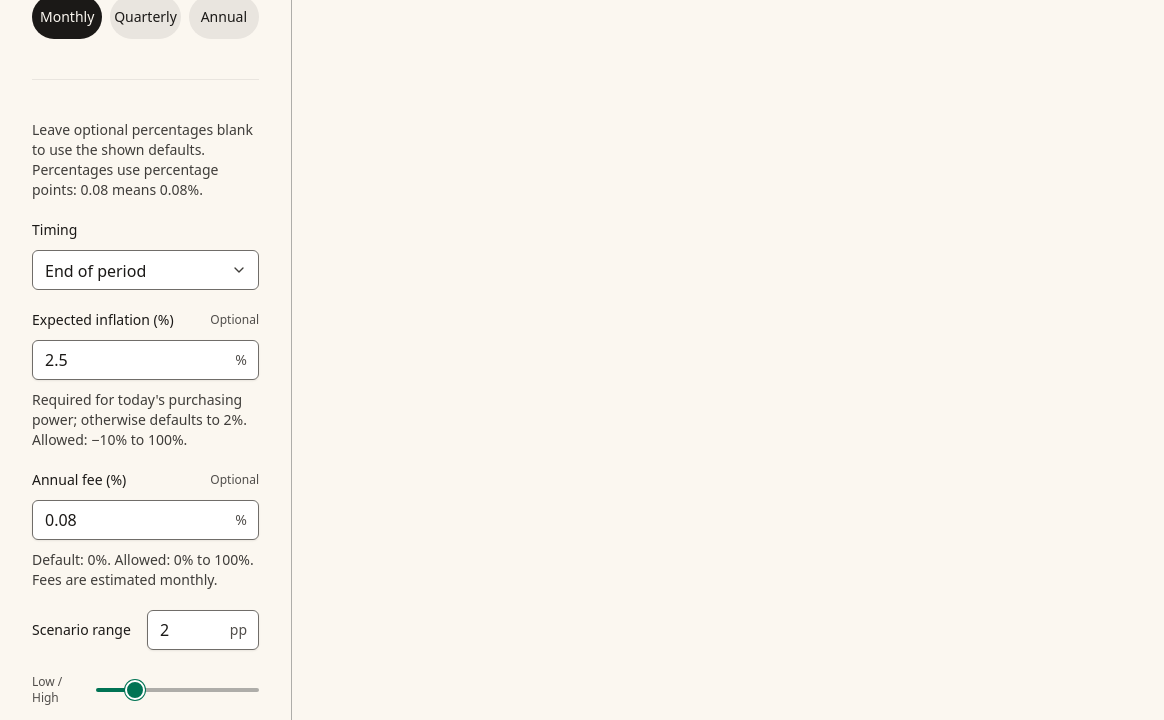
target planner › requires inflation for real targets and displays the backend nominal target
(page scrolled)
Select "Today's purchasing power" in the field named "Target basis" at (146, 360), box [32,340,259,380]
(page scrolled)
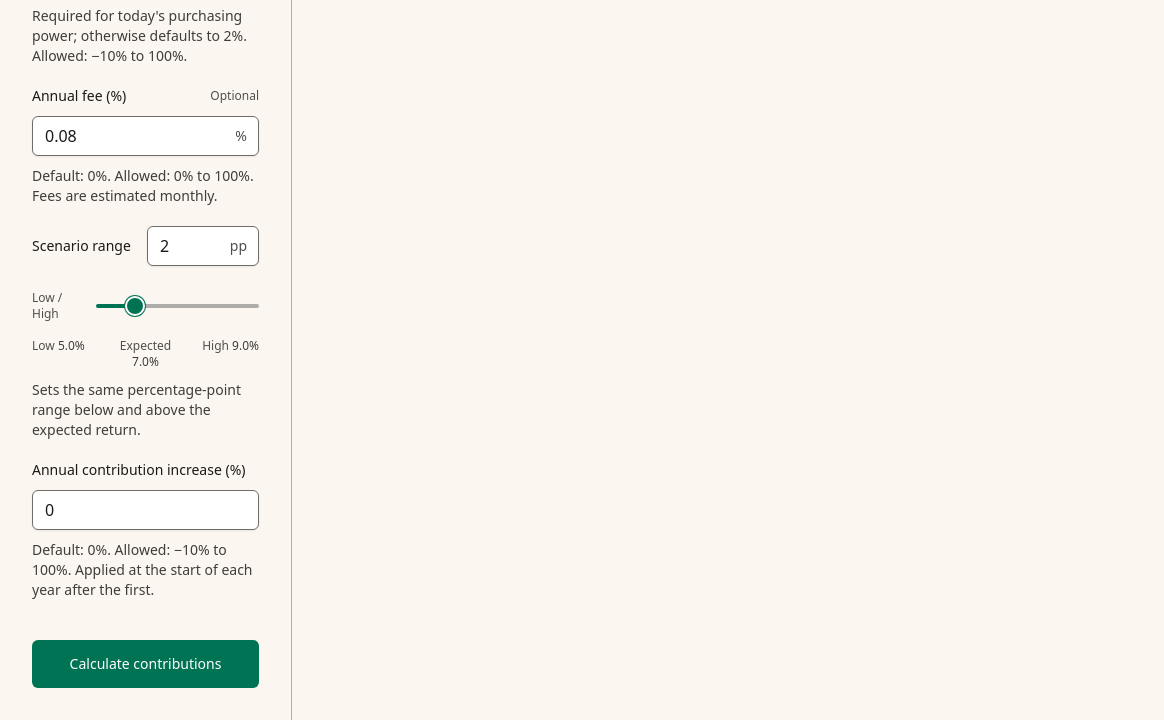
Click the button "Calculate contributions" at (146, 664), box [32,640,259,688]
(page scrolled)
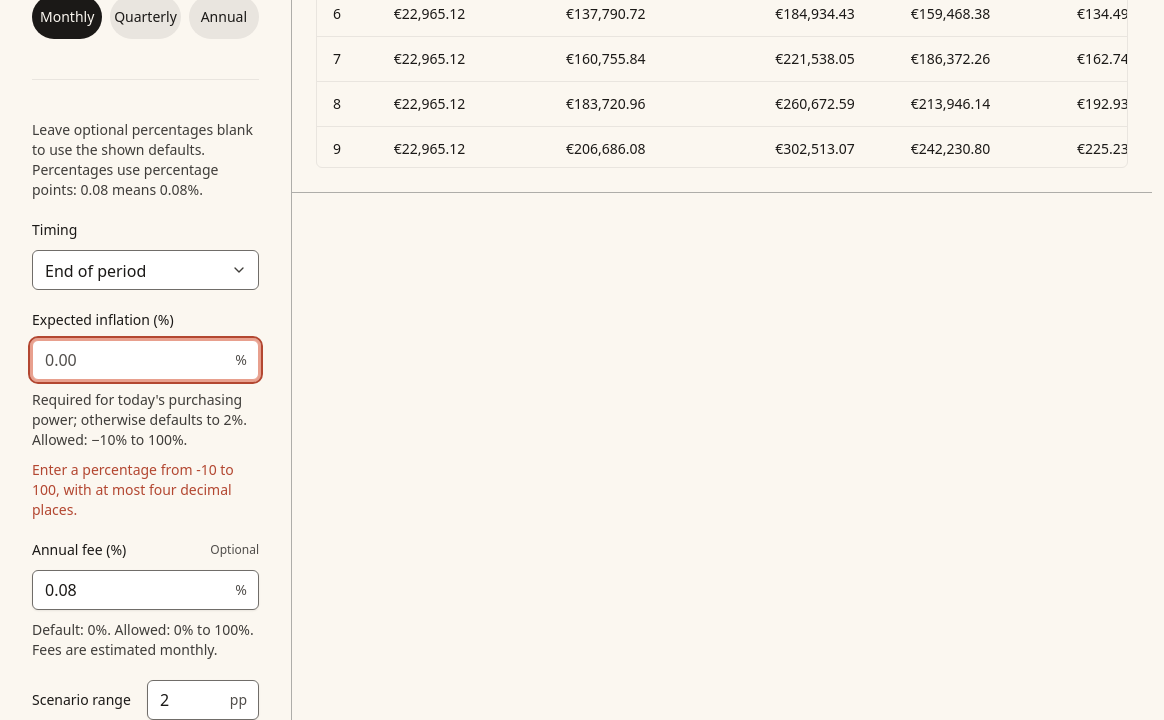
Check: the field labelled "Expected inflation (%)" has attribute required
Check: the field labelled "Expected inflation (%)" has attribute aria-required="true"
Check: the field labelled "Expected inflation (%)" is marked as invalid
Type "2.5000" into the field labelled "Expected inflation (%)" at (146, 360), box [32,340,259,380]
(page scrolled)
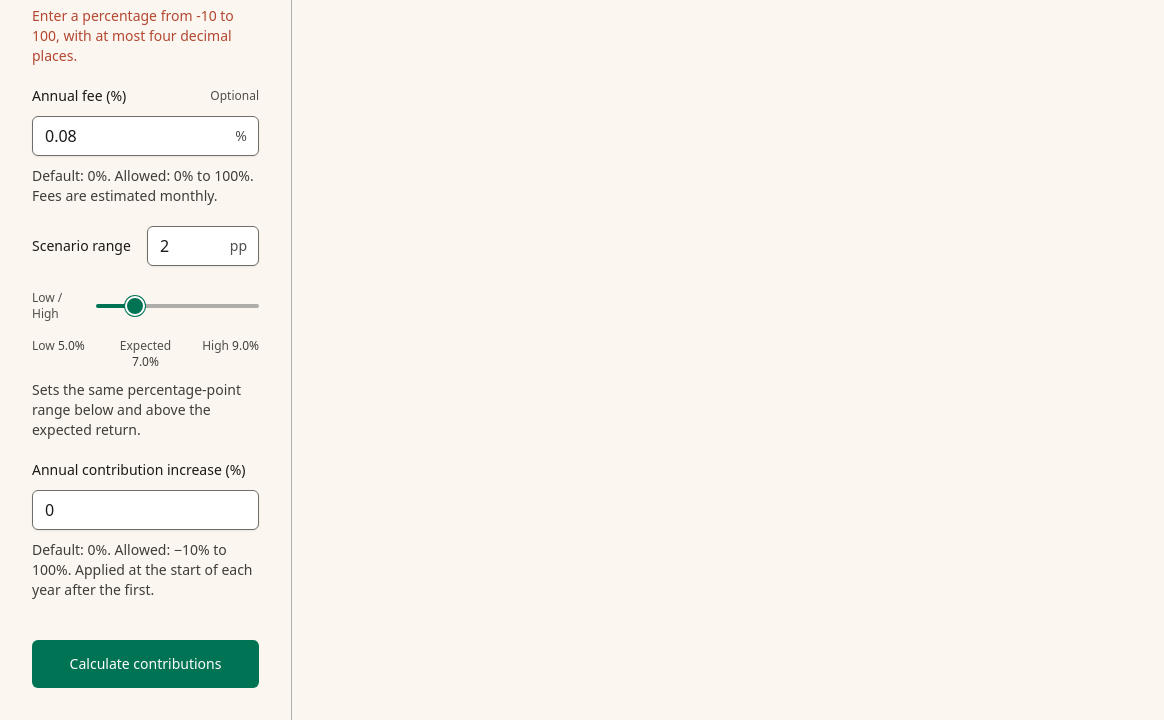
Click the button "Calculate contributions" at (146, 664), box [32,640,259,688]
(page scrolled)
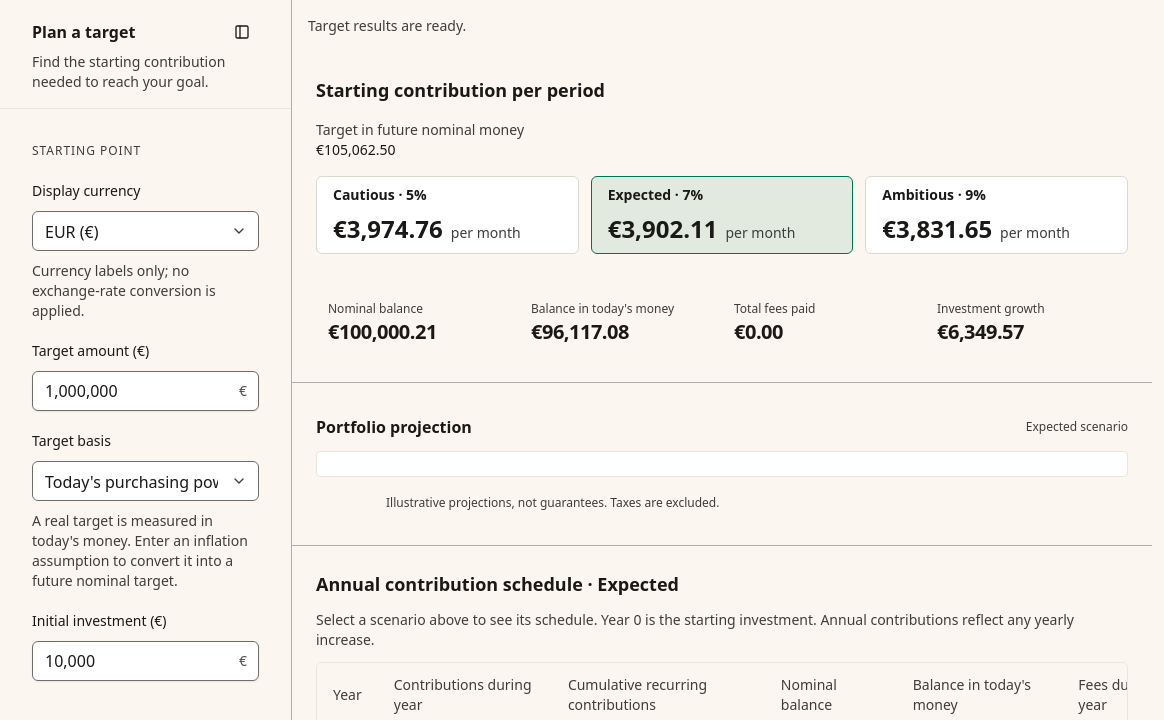
Check: the text "Target in future nominal money" is shown, box [316,120,524,139]
Check: the text "Target results are ready." is shown, box [308,16,466,35]
Check: the text "€105,062.50" is shown, box [316,140,396,159]
